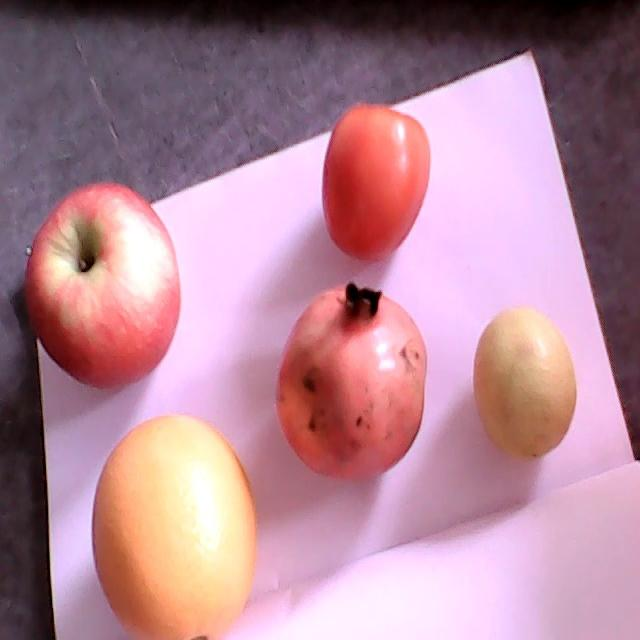apple: (25, 182, 181, 391)
lemon: (473, 310, 576, 459)
orange: (92, 416, 257, 639)
pomegranate: (275, 281, 427, 481)
tomato: (321, 105, 431, 263)
